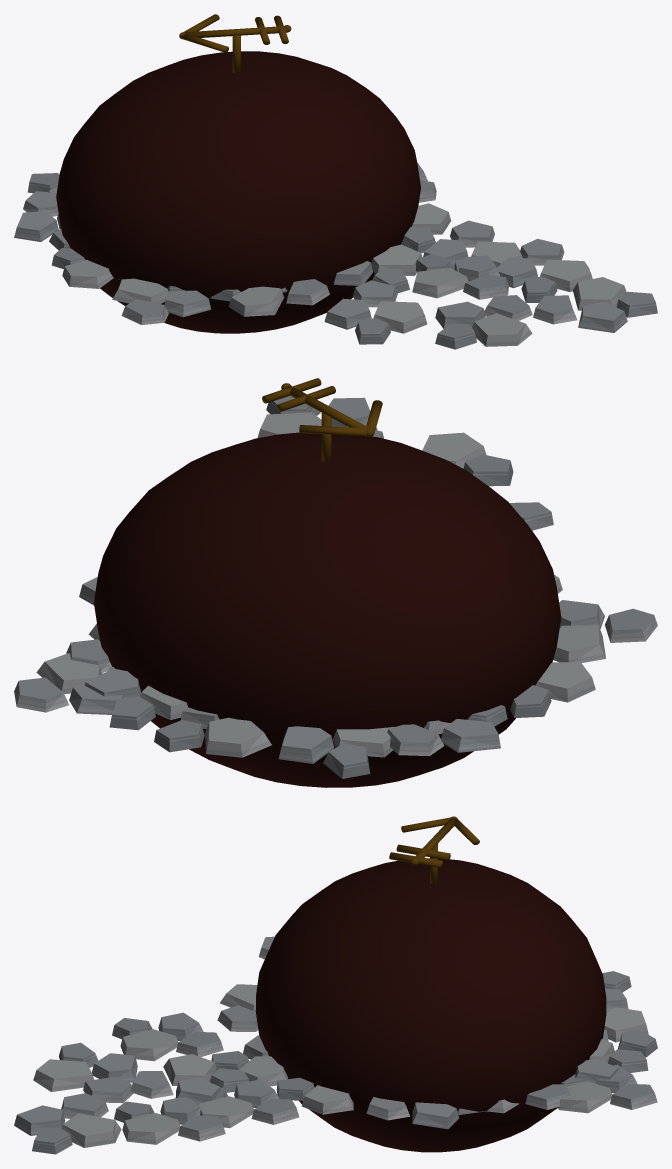
The model's file is patrick_house.obj.
3 views of the same model, one above another, from view 1: azimuth 30°, elevation 25°; view 2: azimuth 150°, elevation 25°; view 3: azimuth 270°, elevation 25° (orthographic). The views are drawn at different scales.
Visible parts, largest first — view 1: patrick_house; view 2: patrick_house; view 3: patrick_house.
Boxes of the visible parts, x1,y1,x2,y2 form: patrick_house: [14, 14, 657, 349]; patrick_house: [14, 378, 657, 787]; patrick_house: [14, 816, 657, 1154].
Size of the model in its own units: 4.69 by 3 by 6.04.
3 materials, 1 textured.
